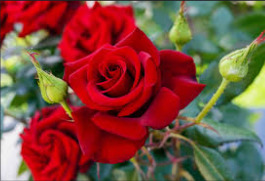RedRose: (65, 34, 195, 151), (21, 102, 97, 181), (60, 2, 137, 61)
